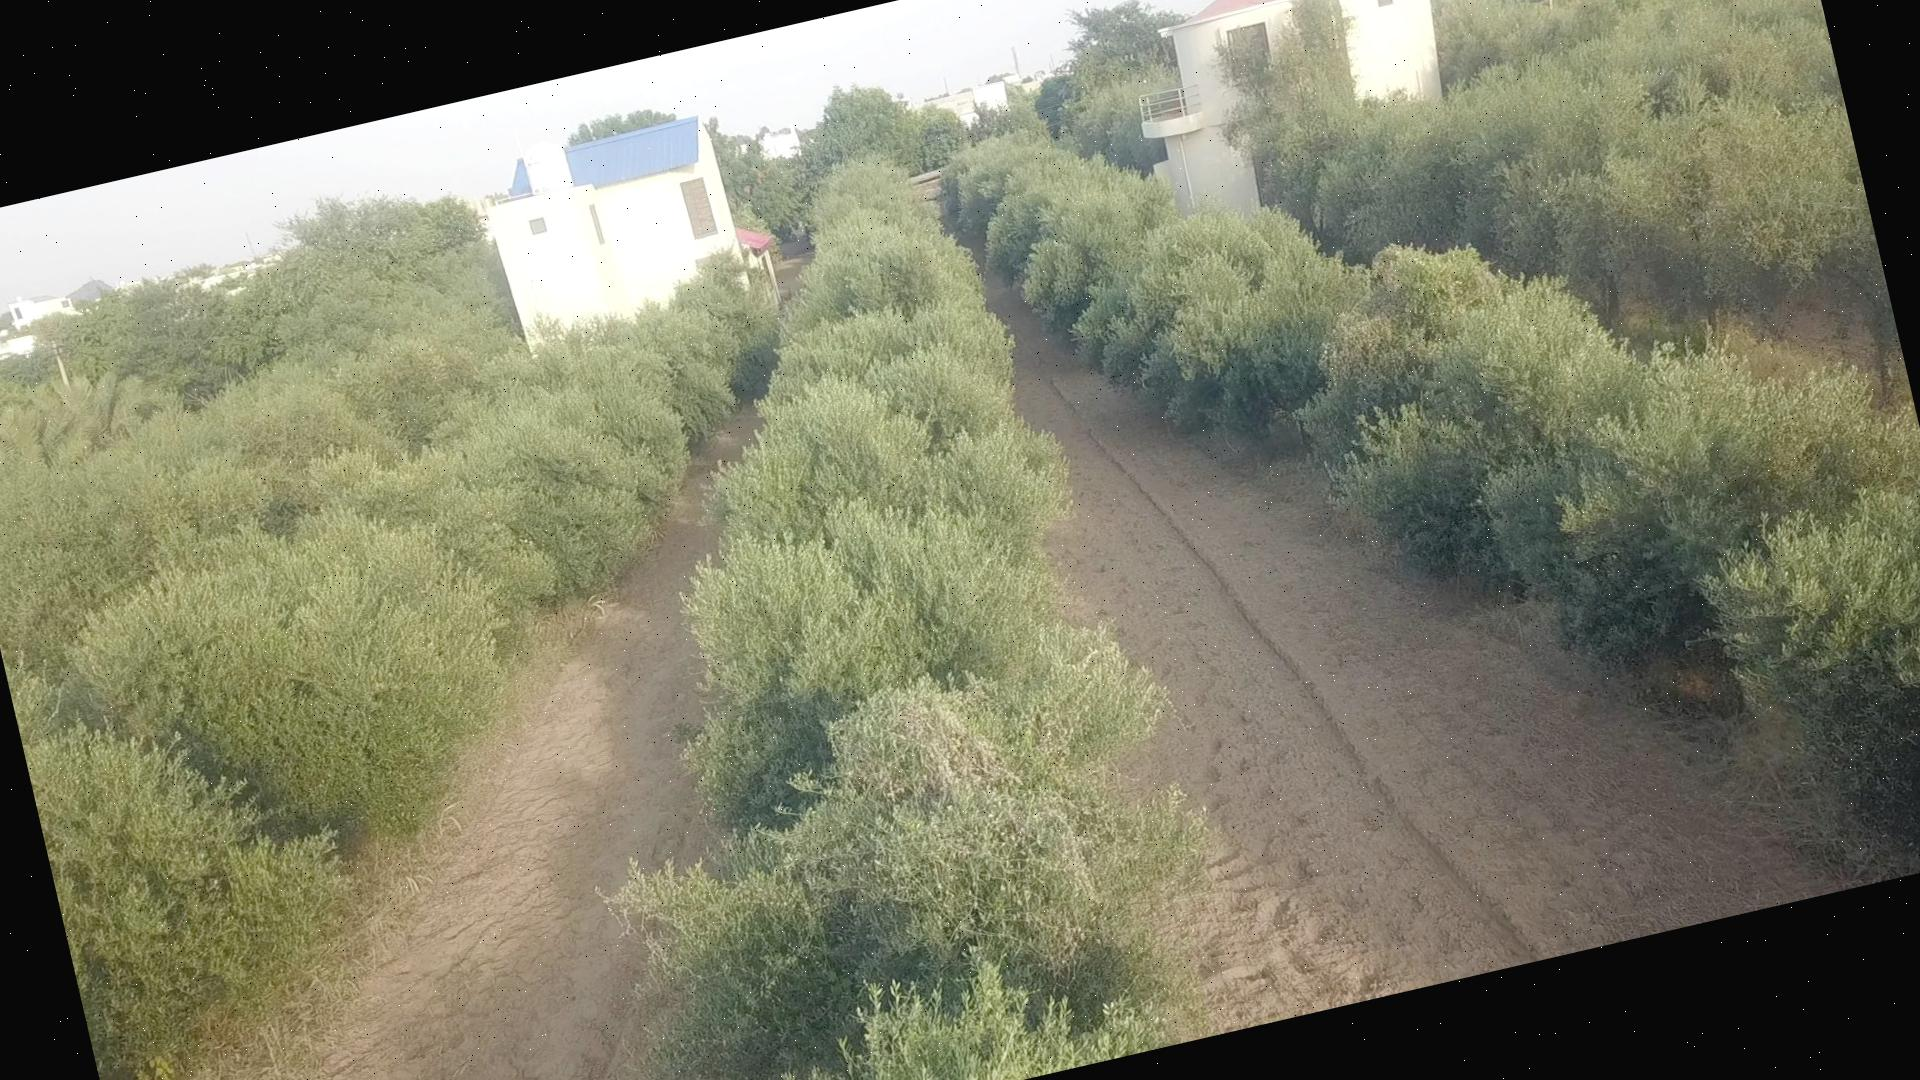canopy: (940, 129, 1920, 849), (0, 287, 761, 1077), (612, 161, 1203, 1080), (1265, 75, 1902, 355)
road: (988, 287, 1851, 1030), (320, 473, 719, 1080)
